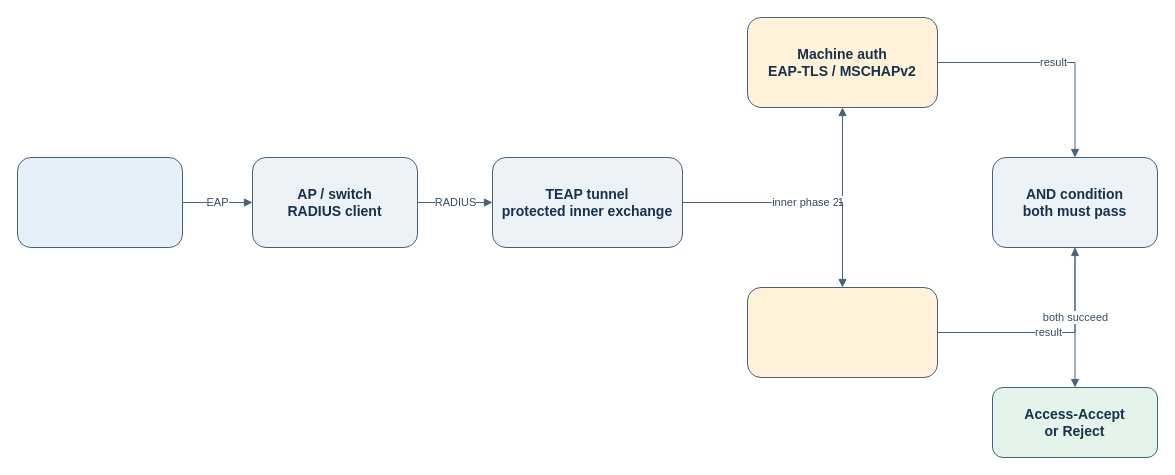
This 1175x475 diagram has some shape labels left out. The shapes that lost their labels are listed below. From the top down, each one's centre as x and y in pixels, then its label:
(x=99, y=202): Supplicant machine + user
(x=842, y=332): User auth EAP-TLS / MSCHAPv2
